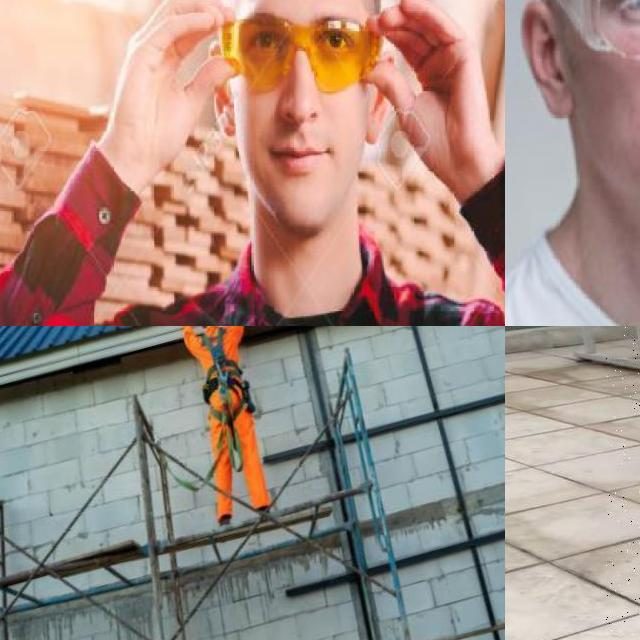Harness: (202, 328, 255, 412)
No_Ear-Protection: (514, 0, 575, 118)
face_nomask: (241, 22, 363, 187)
glasses: (214, 11, 378, 100)
hand_noglove: (356, 0, 505, 196), (97, 0, 246, 178)
person: (59, 0, 505, 326), (505, 0, 640, 326), (605, 326, 640, 636)
